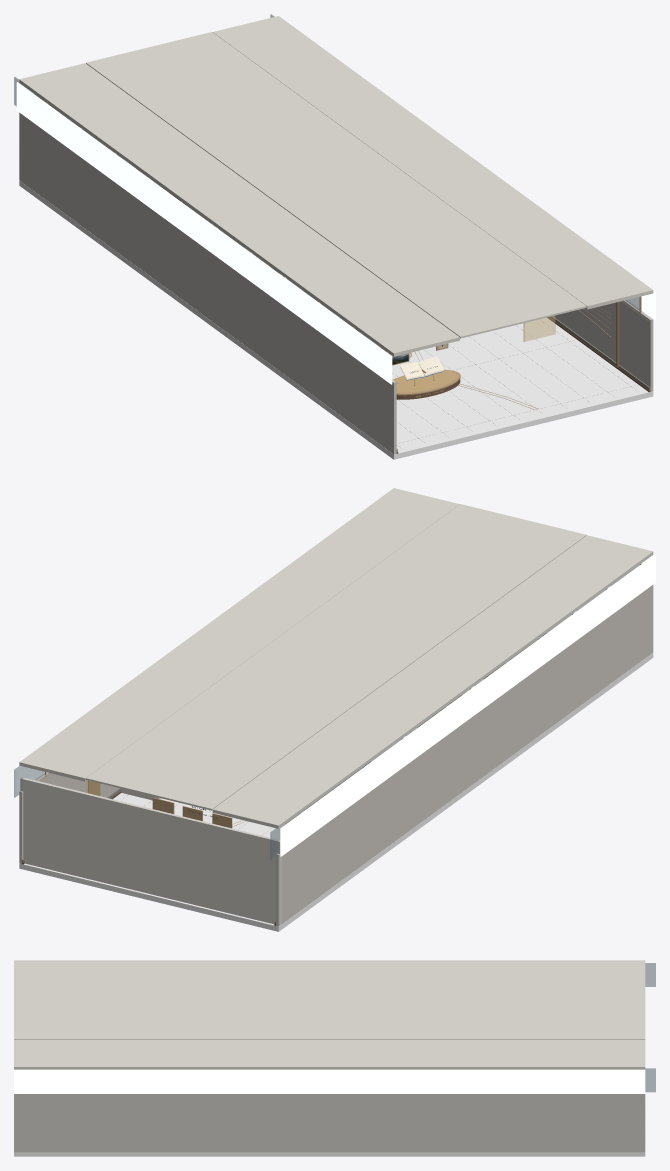
The model's file is personal-gallery.glb.
3 renders of one model, top to bottom at view 1: azimuth 30°, elevation 25°; view 2: azimuth 150°, elevation 25°; view 3: azimuth 270°, elevation 25°, orthographic. The views are drawn at different scales.
Visible parts, largest first — view 1: luminous satin skylight canopy, continuous mineral wall -1, floating ceiling band -11, floating ceiling band 5.4, continuous walnut floor, daylit exterior beyond upper glazing -1, continuous mineral wall 1, YunHai • bronze float line, YunHai • inset amber glass, amber entry veil; view 2: luminous satin skylight canopy, floating ceiling band -11, continuous mineral wall -1, floating ceiling band 5.4, far wall, daylit exterior beyond upper glazing -1, continuous walnut floor, continuous mineral wall 1; view 3: continuous mineral wall 1, luminous satin skylight canopy, floating ceiling band 5.4, floating ceiling band -11, daylit exterior beyond upper glazing 1, continuous walnut floor.
Boxes of the visible parts, x1=… form: luminous satin skylight canopy: x1=86, y1=32, x2=586, y2=338; continuous mineral wall -1: x1=19, y1=112, x2=396, y2=454; floating ceiling band -11: x1=19, y1=63, x2=459, y2=356; floating ceiling band 5.4: x1=213, y1=16, x2=653, y2=309; continuous walnut floor: x1=19, y1=158, x2=653, y2=459; daylit exterior beyond upper glazing -1: x1=16, y1=82, x2=392, y2=384; continuous mineral wall 1: x1=553, y1=300, x2=653, y2=391; YunHai • bronze float line: x1=393, y1=369, x2=460, y2=395; YunHai • inset amber glass: x1=394, y1=370, x2=457, y2=392; amber entry veil: x1=523, y1=315, x2=555, y2=341; luminous satin skylight canopy: x1=86, y1=504, x2=586, y2=810; floating ceiling band -11: x1=212, y1=535, x2=653, y2=828; continuous mineral wall -1: x1=276, y1=585, x2=653, y2=926; floating ceiling band 5.4: x1=19, y1=488, x2=459, y2=781; far wall: x1=20, y1=777, x2=281, y2=925; daylit exterior beyond upper glazing -1: x1=280, y1=554, x2=655, y2=856; continuous walnut floor: x1=19, y1=628, x2=653, y2=931; continuous mineral wall 1: x1=19, y1=772, x2=119, y2=863; continuous mineral wall 1: x1=14, y1=1094, x2=645, y2=1152; luminous satin skylight canopy: x1=14, y1=987, x2=645, y2=1039; floating ceiling band 5.4: x1=14, y1=1040, x2=645, y2=1069; floating ceiling band -11: x1=14, y1=960, x2=645, y2=987; daylit exterior beyond upper glazing 1: x1=14, y1=1069, x2=645, y2=1093; continuous walnut floor: x1=14, y1=1152, x2=645, y2=1156.
Bounding box in the file's own units: 22.44 × 8.64 × 55.92.
Materials: 32 (10 with a texture image).
